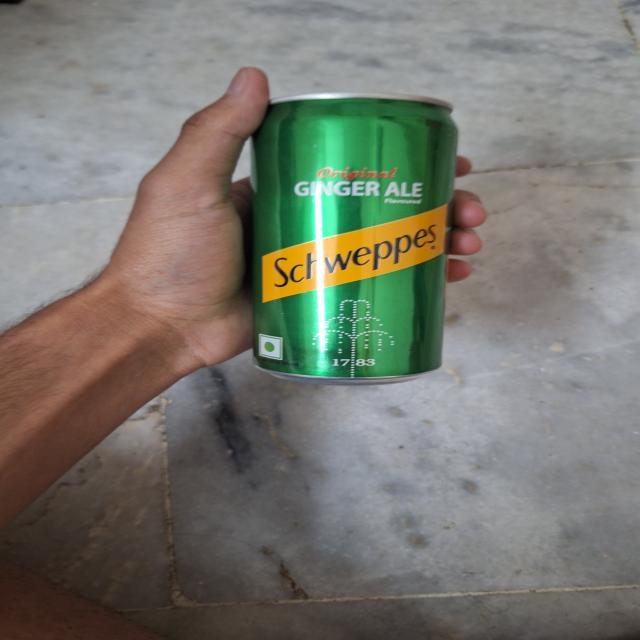Schweppes: (248, 87, 465, 386)
